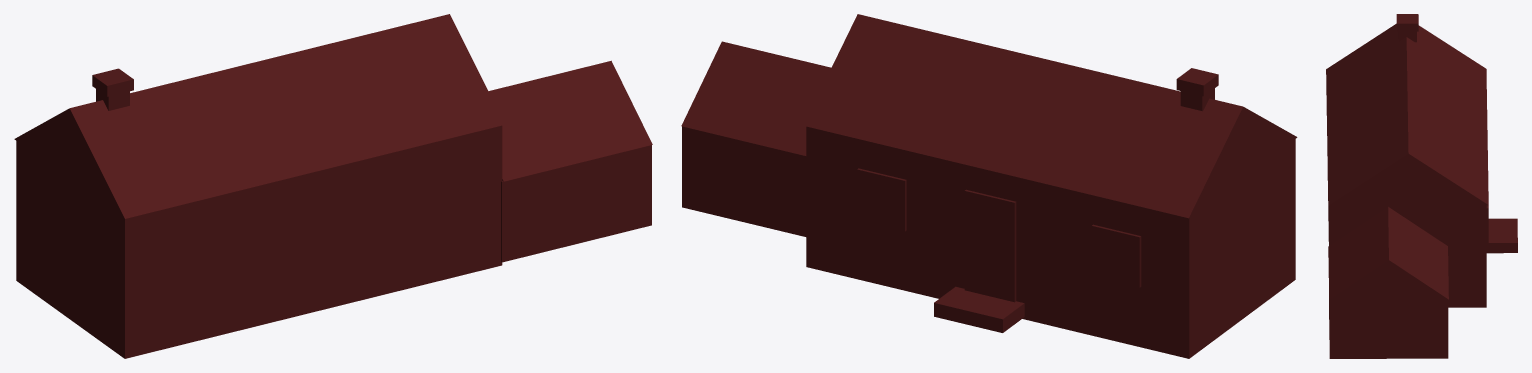
File: House without the grass.fbx
3 renders of one model, left to right at view 1: azimuth 30°, elevation 25°; view 2: azimuth 150°, elevation 25°; view 3: azimuth 270°, elevation 25°, orthographic. The views are drawn at different scales.
Parts seen in each view (by area): view 1: House2:polySurface12; view 2: House2:polySurface12; view 3: House2:polySurface12.
Part boxes in pixels (x1,y1,x2,y2): House2:polySurface12: (14, 14, 652, 358); House2:polySurface12: (681, 14, 1297, 358); House2:polySurface12: (1326, 14, 1517, 358).
Bounding box in the file's own units: 24.55 × 10.22 × 10.49.
